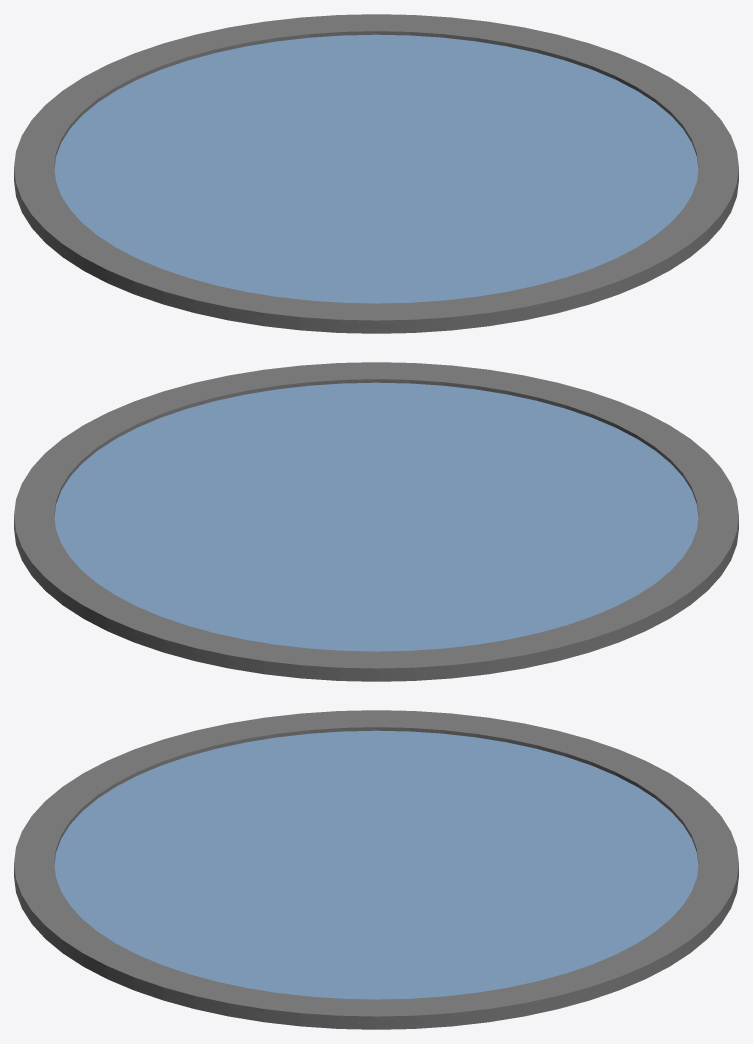
File: SM_WheelTableGlass.FBX
3 renders of one model, top to bottom at view 1: azimuth 30°, elevation 25°; view 2: azimuth 150°, elevation 25°; view 3: azimuth 270°, elevation 25°, orthographic.
Visible parts, largest first — view 1: SM_WheelTableGlass; view 2: SM_WheelTableGlass; view 3: SM_WheelTableGlass.
Boxes of the visible parts, x1,y1,x2,y2 form: SM_WheelTableGlass: (14, 14, 738, 333); SM_WheelTableGlass: (14, 362, 738, 681); SM_WheelTableGlass: (14, 710, 738, 1029).
Bounding box in the file's own units: 205 × 4.14 × 205.
